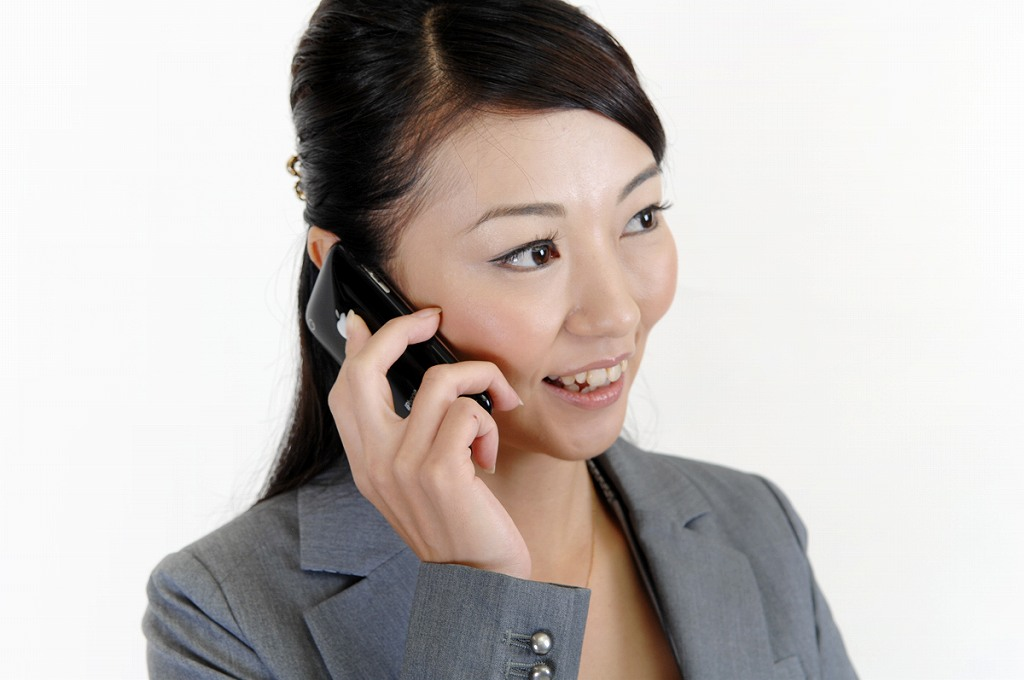phone: (312, 251, 525, 489)
talk: (303, 151, 684, 530)
